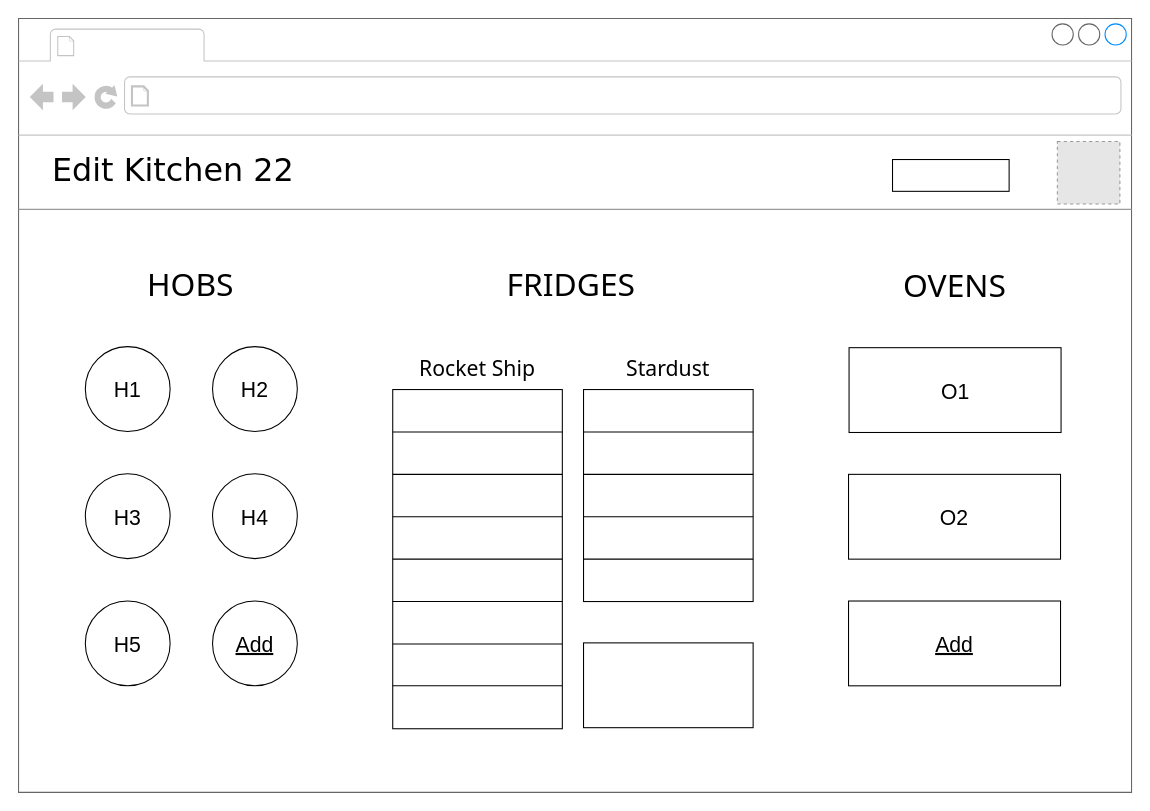
Some shapes in this 1150 by 811 pixel diagram are drawn without their labels. Grey dashed boxes stand in for pictures. The shapes that lost their labels are listed below. From the top down, each one's box as (x1, y1, x2, y2) in pixels, then its label:
(81, 30, 199, 59): Edit Kitchen...
(167, 81, 559, 110): https://www.kitchenaccelerator.web.cern.ch/...
(891, 158, 1009, 191): Done
(582, 642, 753, 728): number of shelves: ____ add
